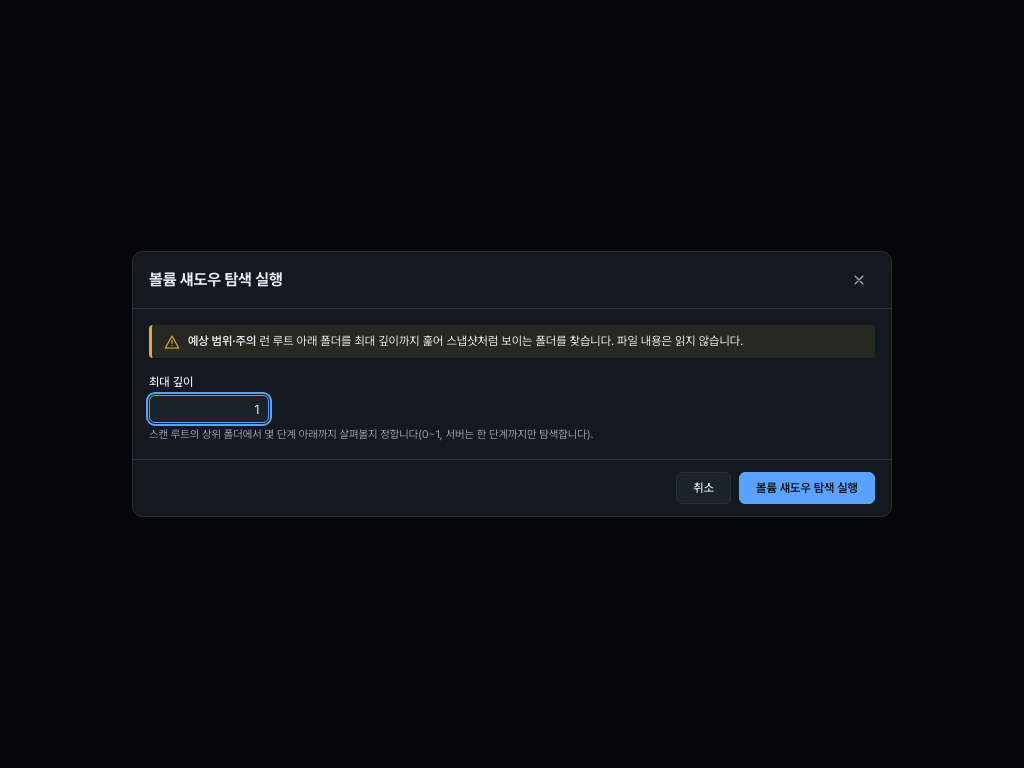
Test case: AnalysisDialog › shows the server's reason when the run is refused (409) and blocks while the run is not finished
Click the button with test id "analysis-submit": coordinates (807, 488) [739, 472, 875, 504]
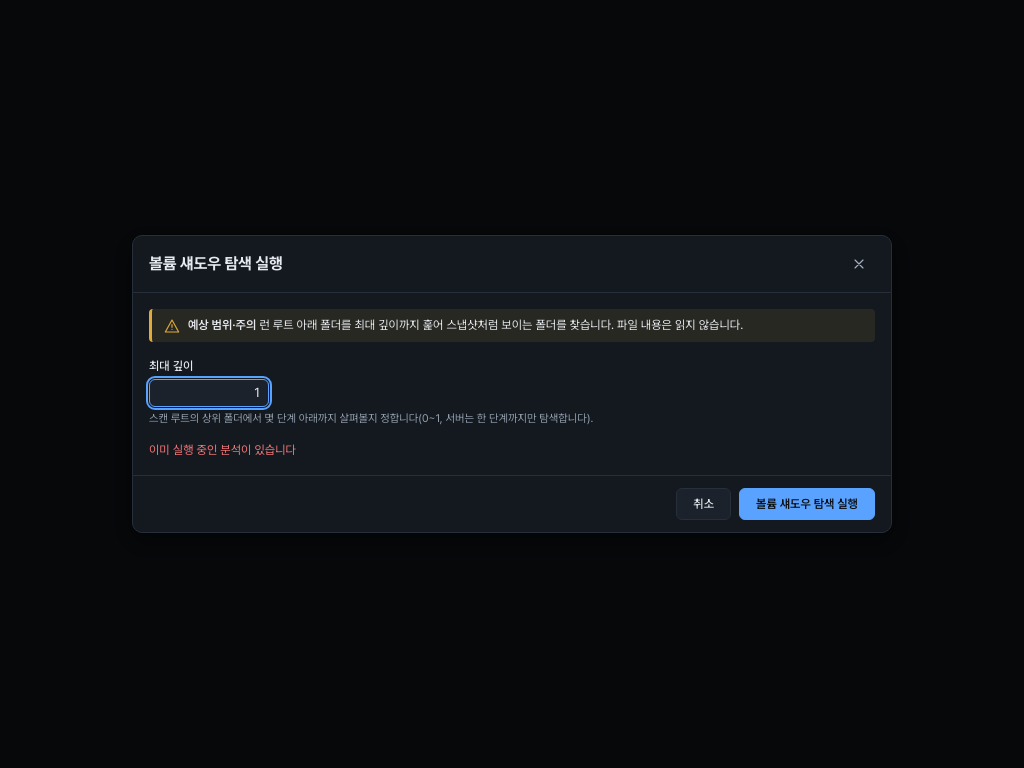
Check: the text "이미 실행 중인 분석이 있습니다" is shown, box [149, 443, 296, 457]
